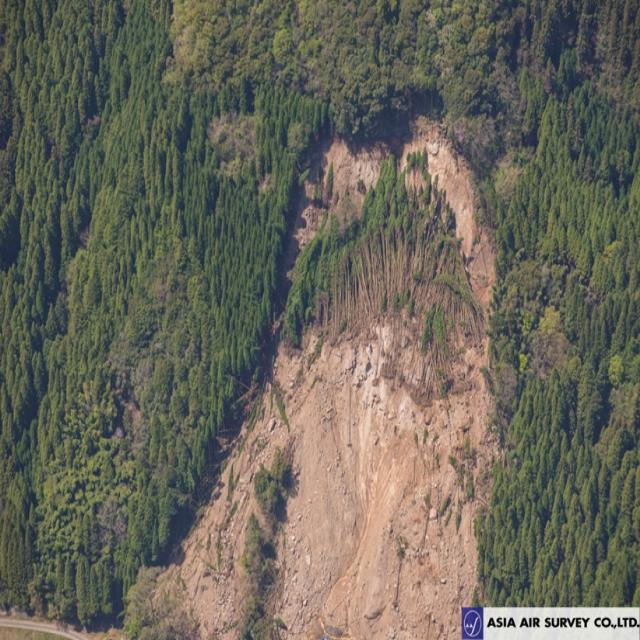Debris-flow: (164, 120, 499, 639)
